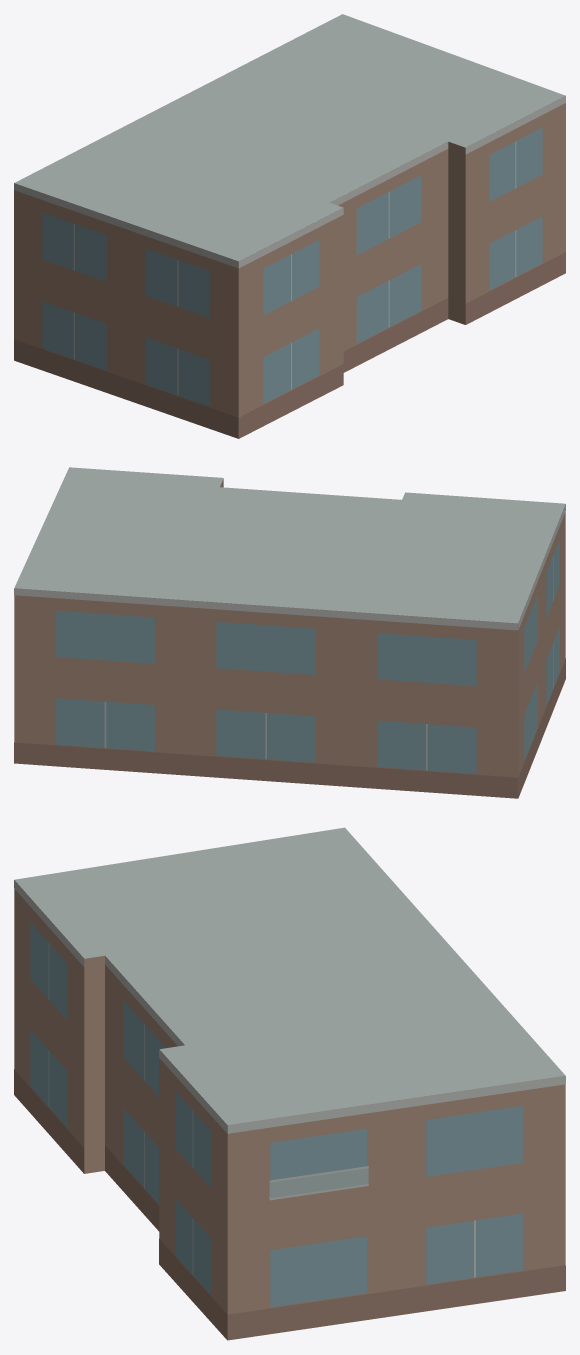
Rendered from survey-upis-32702163.glb.
The picture shows the model from 3 angles, top to bottom: view 1: azimuth 30°, elevation 25°; view 2: azimuth 150°, elevation 25°; view 3: azimuth 270°, elevation 25°; orthographic projection. The views are drawn at different scales.
Visible parts, largest first — view 1: survey-upis-32702163.tmp; view 2: survey-upis-32702163.tmp; view 3: survey-upis-32702163.tmp.
Part boxes in pixels (<box>): survey-upis-32702163.tmp: <box>14,14,565,438</box>; survey-upis-32702163.tmp: <box>14,467,565,798</box>; survey-upis-32702163.tmp: <box>14,827,565,1340</box>.
Size of the model in its own units: 18.11 by 6.1 by 14.18.
